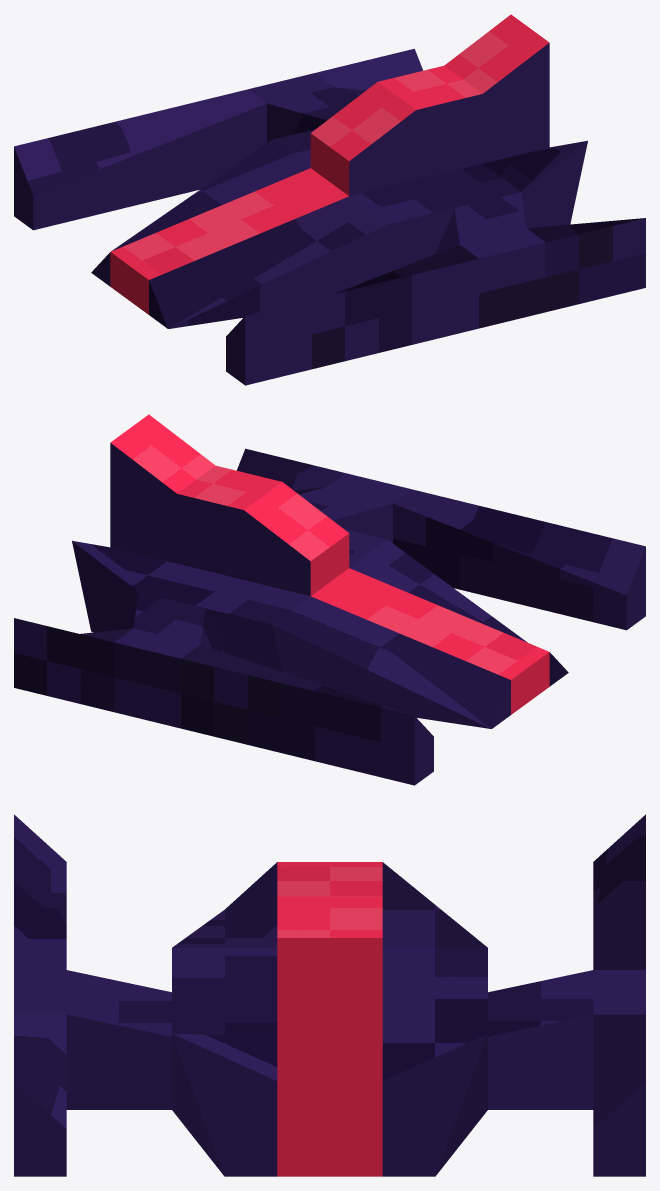
Rendered from player.gltf.
3 renders of one model, top to bottom at view 1: azimuth 30°, elevation 25°; view 2: azimuth 150°, elevation 25°; view 3: azimuth 270°, elevation 25°, orthographic. The views are drawn at different scales.
Parts seen in each view (by area): view 1: cuboid; view 2: cuboid; view 3: cuboid.
Part boxes in pixels (x1,y1,x2,y2): cuboid: (14, 14, 645, 385); cuboid: (14, 414, 645, 785); cuboid: (14, 814, 645, 1176).
Bounding box in the file's own units: 0.75 × 0.3125 × 0.75.
1 material, 1 textured.
